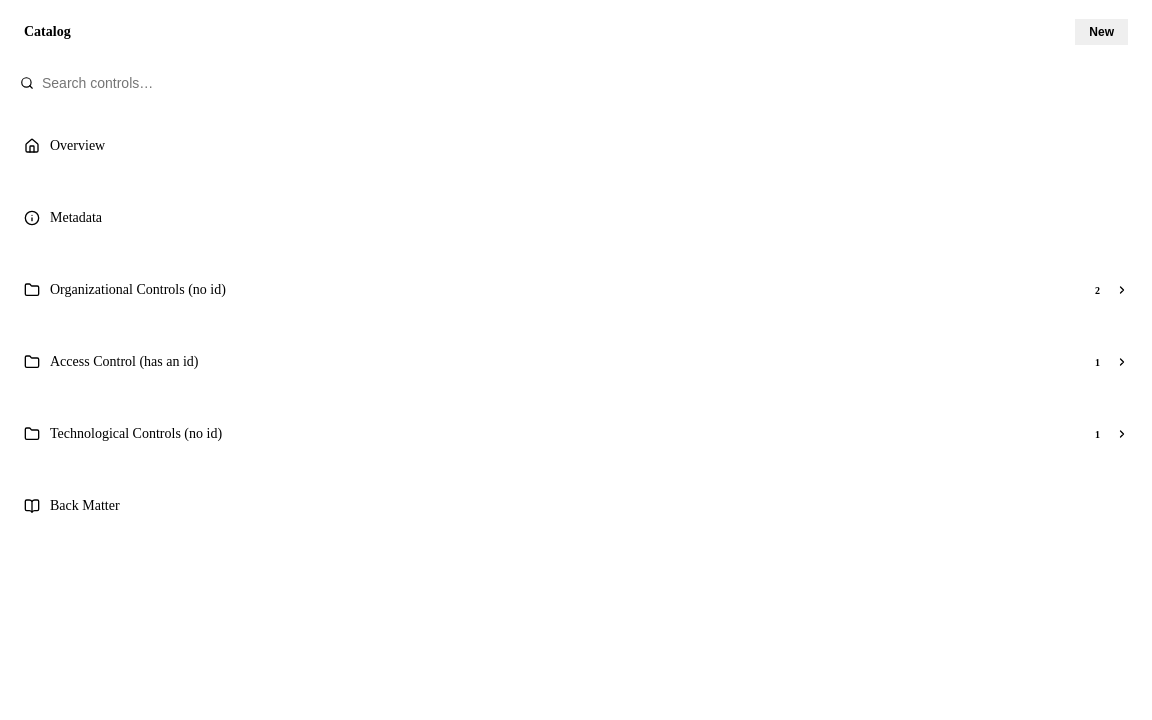
Test case: CatalogPage groups without an id (issue #100) › drills into a group without an id on mobile
The image size is (1152, 720).
Click the text "Organizational Controls (no id)".
click(138, 290)  # box [50,282,226,297]
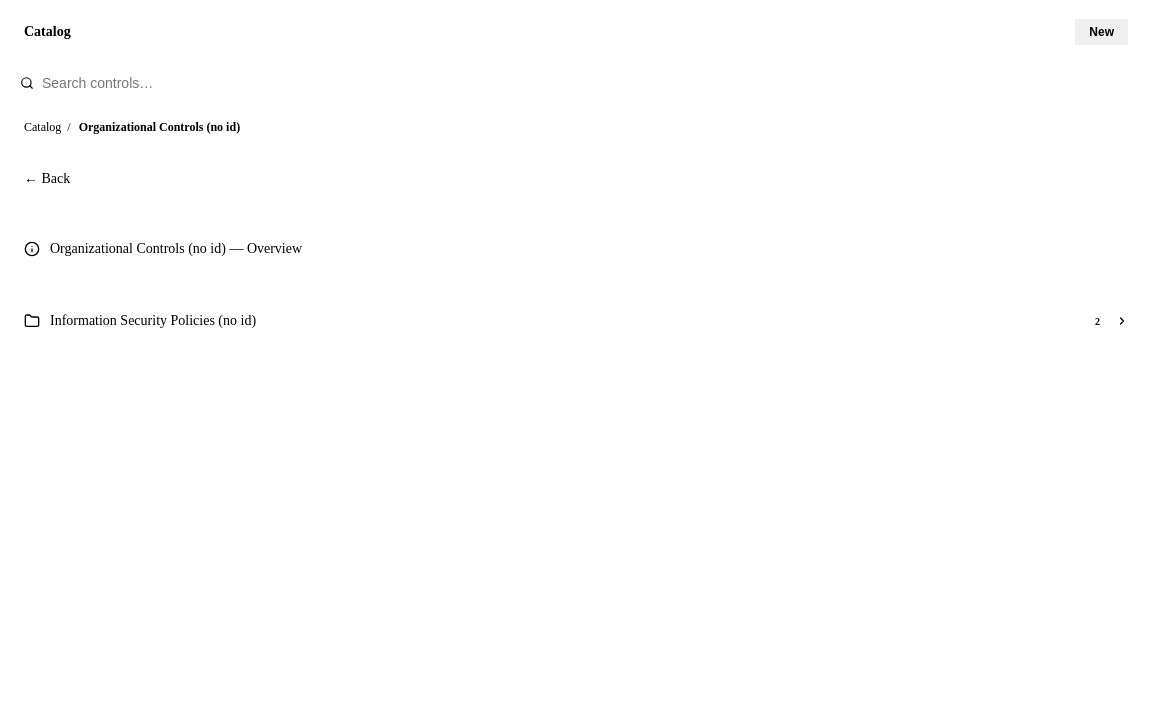
Result: the text "Information Security Policies (no id)" is shown at [50,313,256,328]
Result: the text "Organizational Controls (no id) — Overview" is shown at [50,241,302,256]
